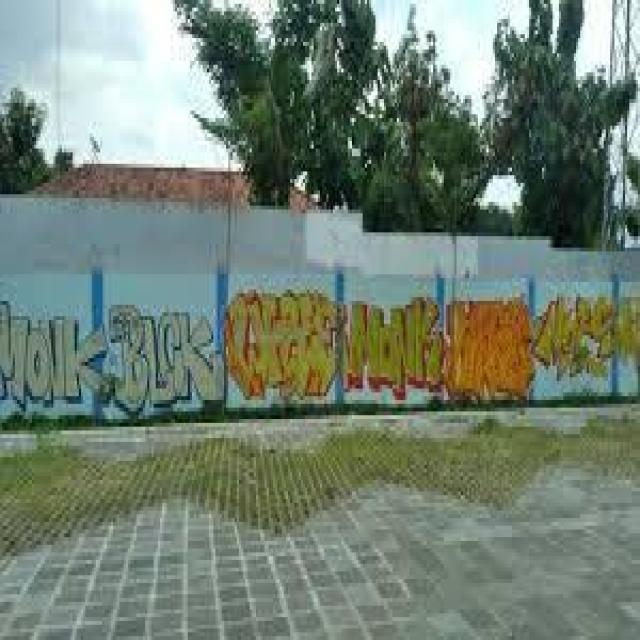nonspitting: (0, 297, 226, 412), (224, 290, 341, 398), (343, 297, 445, 402), (446, 297, 536, 398), (535, 293, 640, 377)
